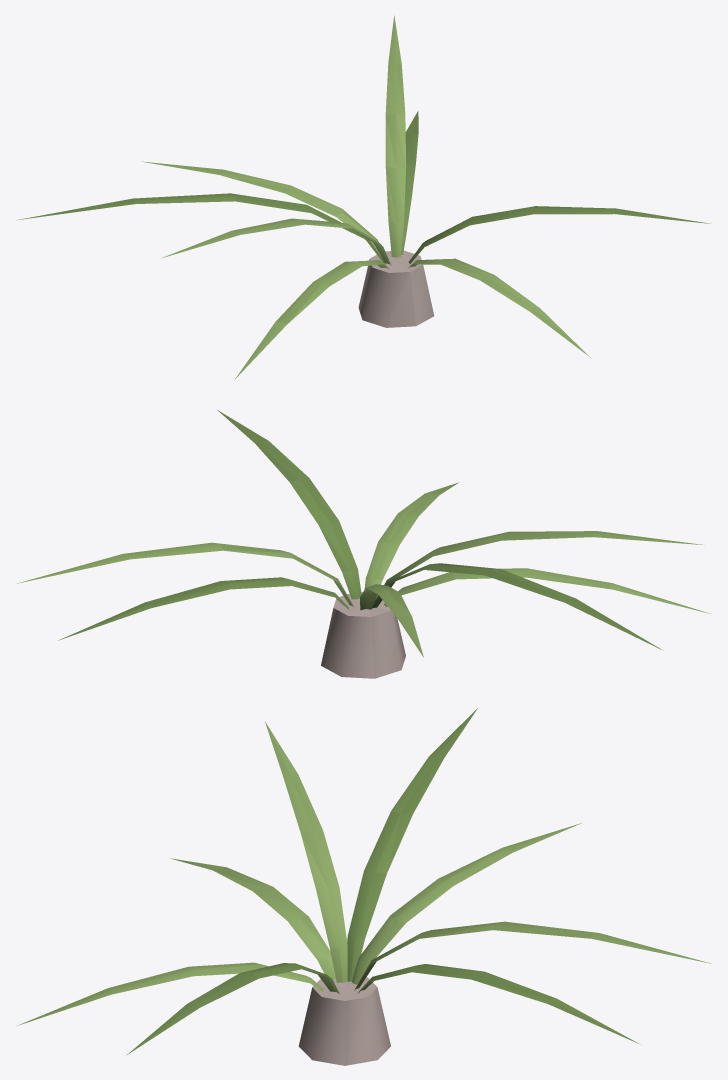
Rendered from crop-lemongrass-young.glb.
3 views of the same model, one above another, from view 1: azimuth 30°, elevation 25°; view 2: azimuth 150°, elevation 25°; view 3: azimuth 270°, elevation 25° (orthographic). The views are drawn at different scales.
Visible parts, largest first — view 1: crop-lemongrass-young-kit; view 2: crop-lemongrass-young-kit; view 3: crop-lemongrass-young-kit.
Boxes of the visible parts, x1,y1,x2,y2 form: crop-lemongrass-young-kit: [16, 15, 710, 378]; crop-lemongrass-young-kit: [17, 410, 711, 678]; crop-lemongrass-young-kit: [17, 708, 710, 1065].
Size of the model in its own units: 1.37 by 0.3476 by 1.29.
